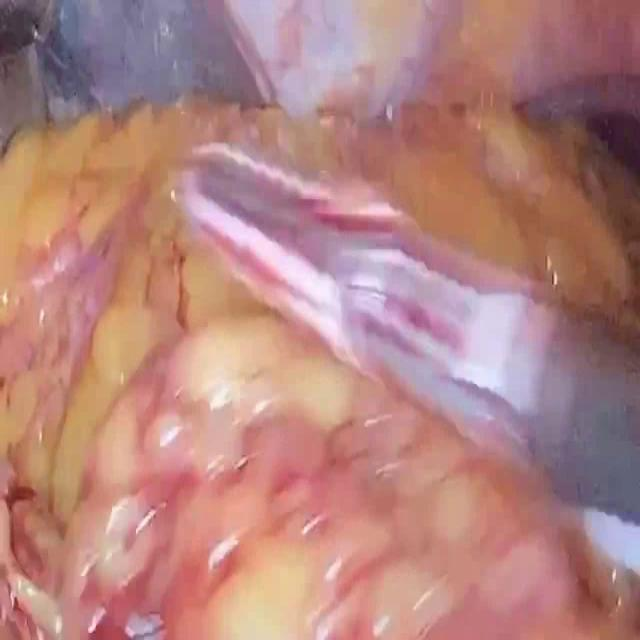surgical-area: (0, 0, 640, 639)
surgical-tool: (182, 148, 640, 581)
